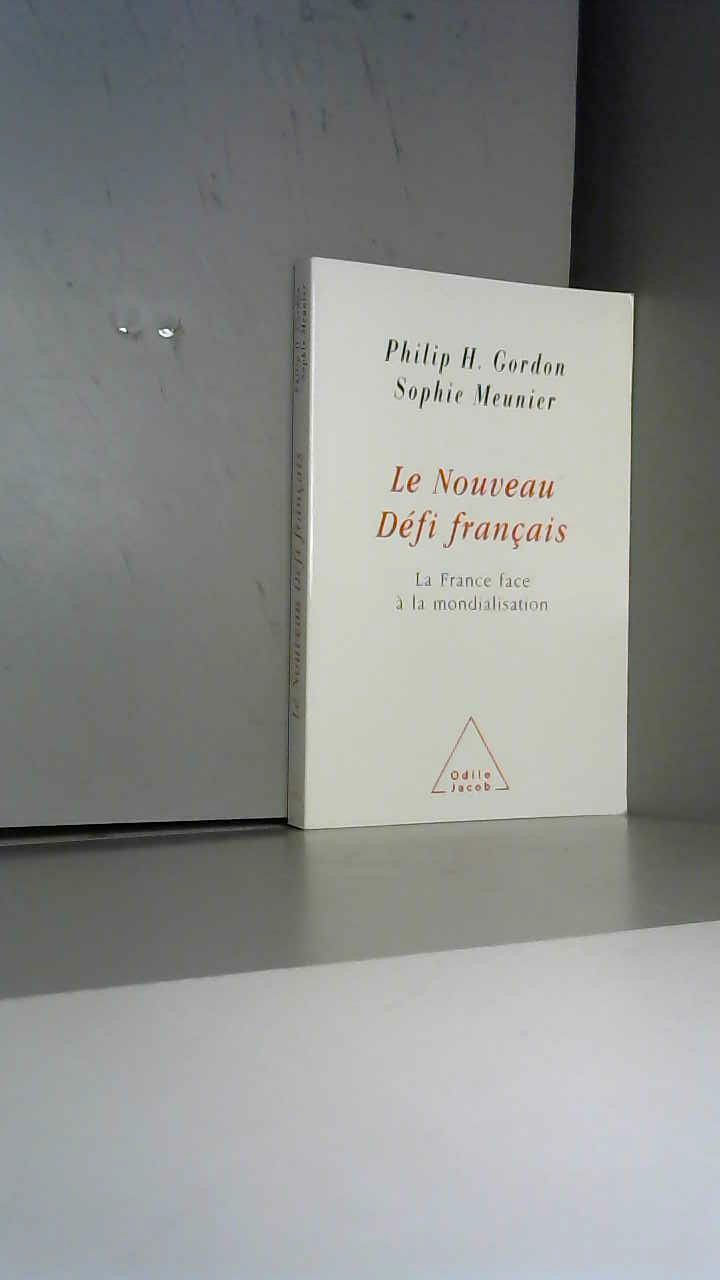book: (280, 230, 720, 908)
